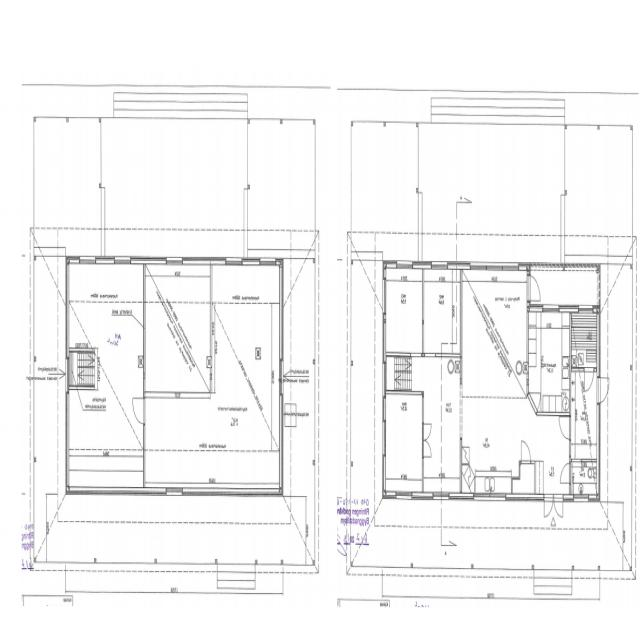door: (528, 379, 544, 414), (596, 378, 612, 404), (527, 276, 543, 302), (131, 399, 145, 426), (559, 418, 571, 442), (544, 494, 553, 523), (554, 494, 563, 522), (584, 368, 594, 393), (560, 464, 571, 484), (522, 441, 530, 464), (422, 442, 431, 459), (422, 425, 431, 442)
